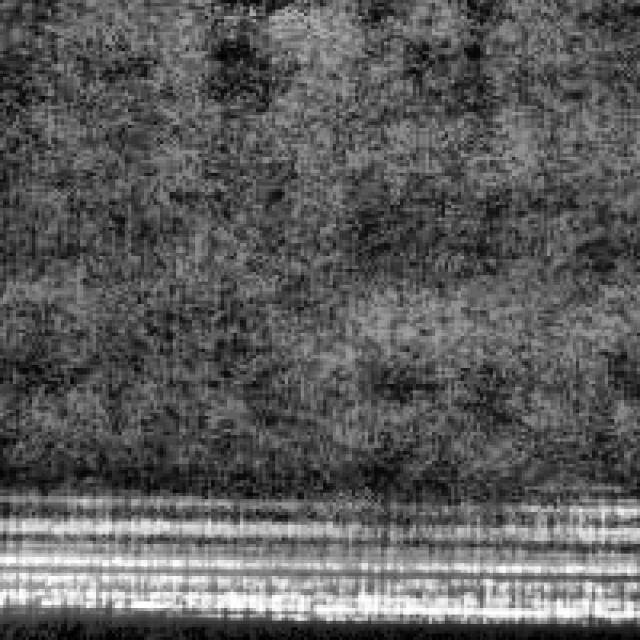Inclusion: (0, 525, 630, 621)
